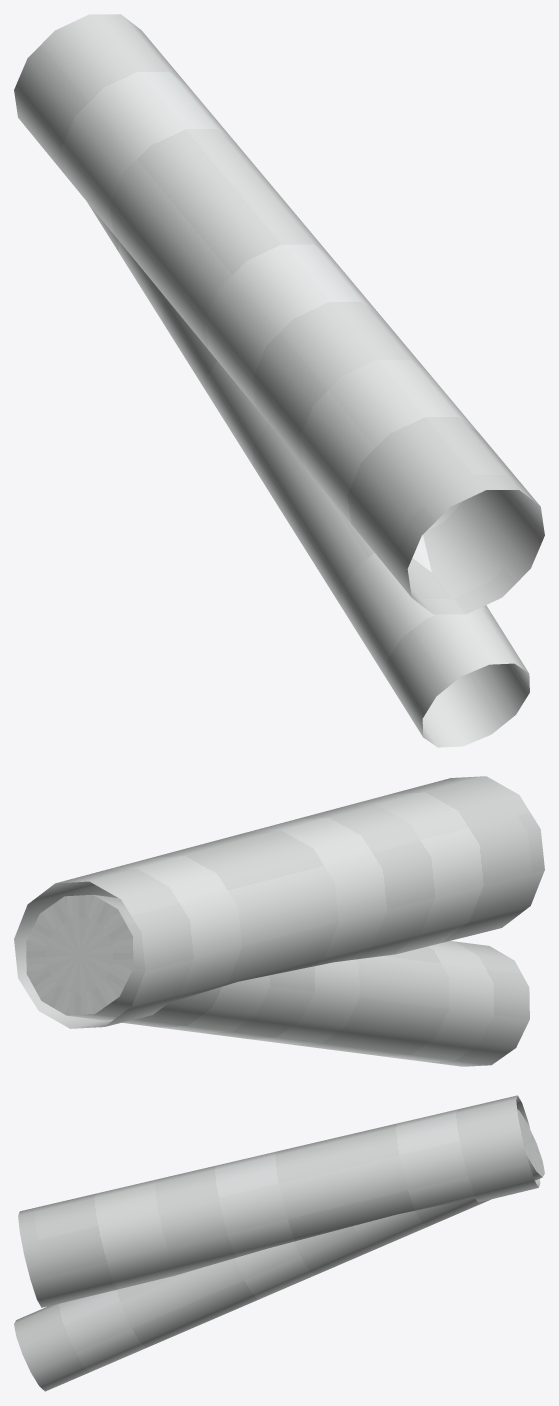
File: luminairearm_truss15ftstraight_c6.obj
3 views of the same model, one above another, from view 1: azimuth 30°, elevation 25°; view 2: azimuth 150°, elevation 25°; view 3: azimuth 270°, elevation 25° (orthographic). The views are drawn at different scales.
Visible parts, largest first — view 1: luminairearm_truss15ftstraight_c6; view 2: luminairearm_truss15ftstraight_c6; view 3: luminairearm_truss15ftstraight_c6.
Boxes of the visible parts, x1=… form: luminairearm_truss15ftstraight_c6: x1=14, y1=14, x2=544, y2=747; luminairearm_truss15ftstraight_c6: x1=14, y1=776, x2=544, y2=1066; luminairearm_truss15ftstraight_c6: x1=14, y1=1095, x2=544, y2=1391.
Size of the model in its own units: 0.2 by 0.6383 by 1.07.
